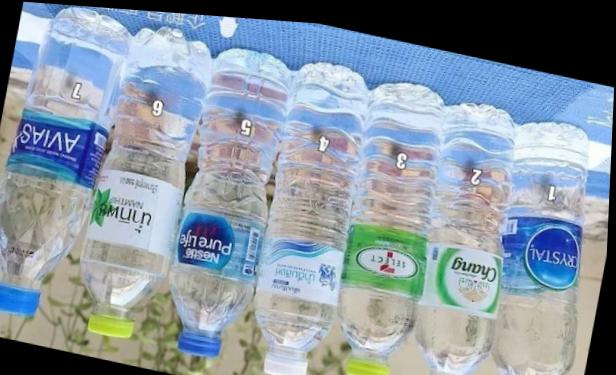plastic: (69, 8, 208, 364), (0, 6, 128, 352), (169, 49, 287, 372), (255, 62, 367, 374), (393, 103, 513, 372), (340, 83, 442, 372), (493, 122, 609, 372)
